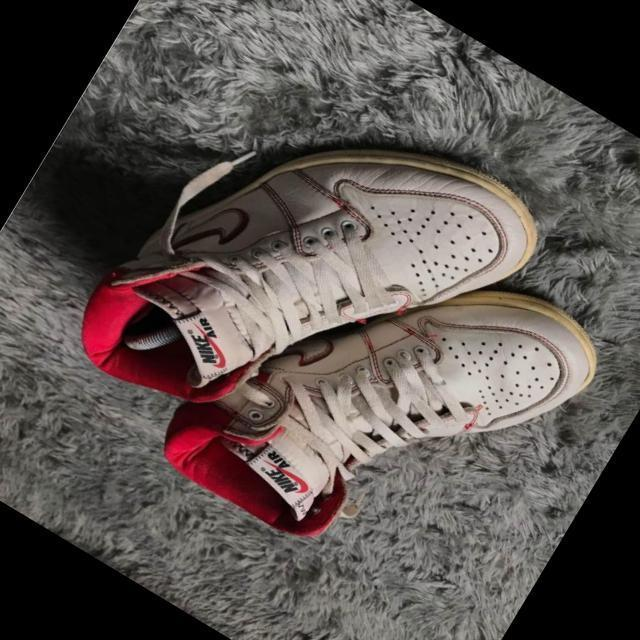nike original jordan 1: (58, 28, 562, 534), (147, 166, 616, 635)
